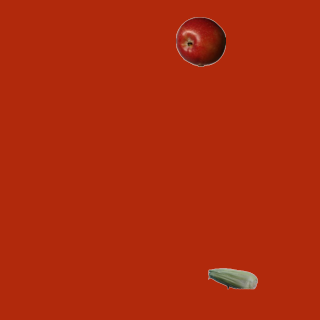Apple Braeburn: (175, 16, 225, 66)
Corn Husk: (207, 253, 257, 303)
